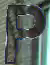Parking: (5, 4, 44, 64)
